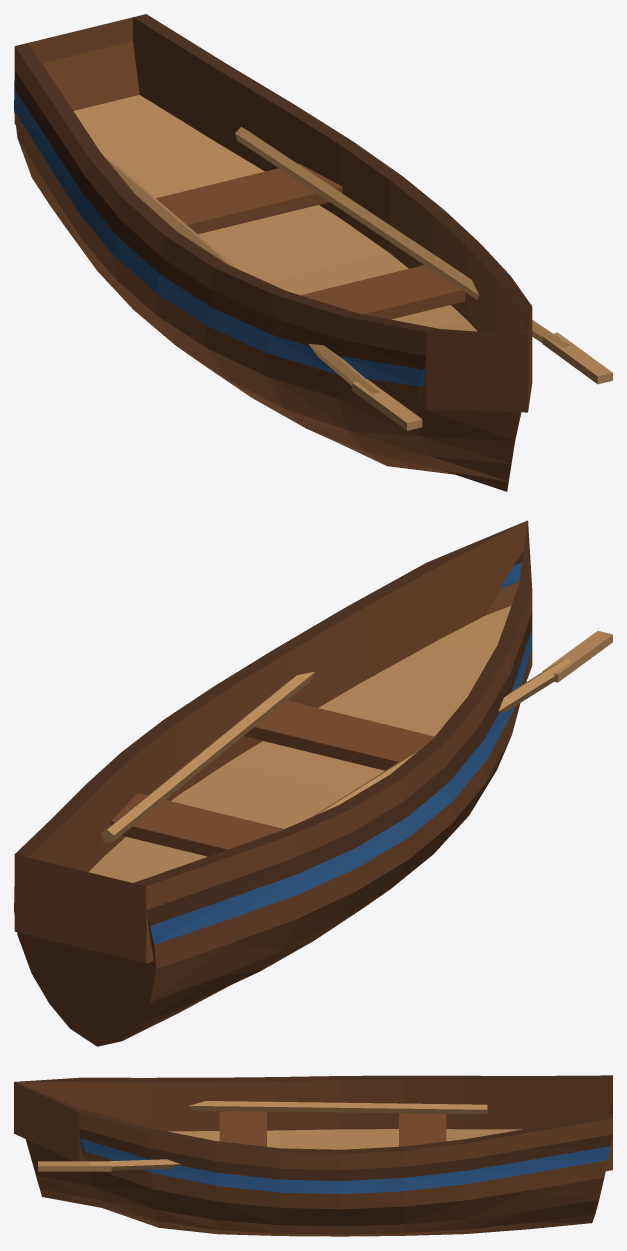
File: Rowboat.fbx
3 views of the same model, one above another, from view 1: azimuth 30°, elevation 25°; view 2: azimuth 150°, elevation 25°; view 3: azimuth 270°, elevation 25° (orthographic). The views are drawn at different scales.
Parts seen in each view (by area): view 1: Boat; view 2: Boat; view 3: Boat.
Part boxes in pixels (x1,y1,x2,y2): Boat: [14, 14, 612, 491]; Boat: [14, 520, 612, 1046]; Boat: [14, 1075, 612, 1236].
Bounding box in the file's own units: 1.34 × 1.1 × 4.07.
